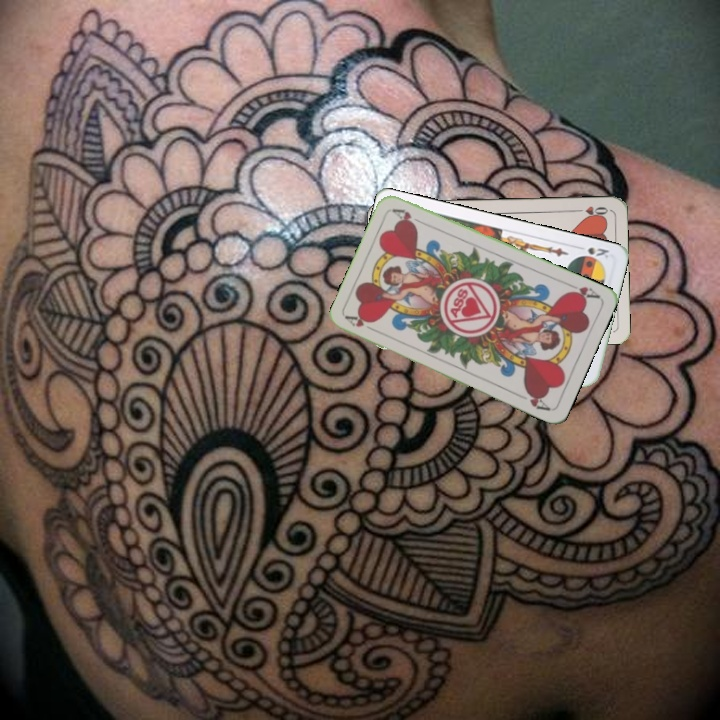HA: (342, 311, 380, 336), (563, 279, 602, 303)
HO: (571, 202, 610, 219)
SK: (583, 243, 612, 262)
